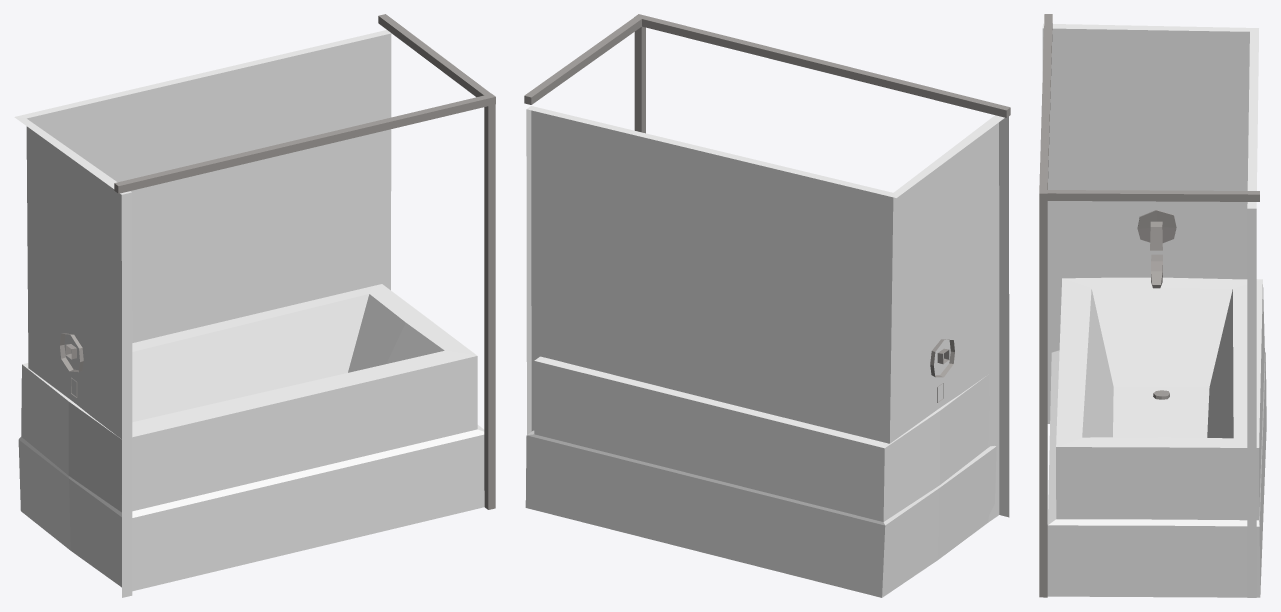
The model's file is Bathroom_Bath.fbx.
The picture shows the model from 3 angles, left to right: view 1: azimuth 30°, elevation 25°; view 2: azimuth 150°, elevation 25°; view 3: azimuth 270°, elevation 25°; orthographic projection.
Visible parts, largest first — view 1: Bathroom_Bath; view 2: Bathroom_Bath; view 3: Bathroom_Bath.
Part boxes in pixels (x1=…): Bathroom_Bath: x1=14, y1=14, x2=495, y2=597; Bathroom_Bath: x1=524, y1=14, x2=1010, y2=597; Bathroom_Bath: x1=1039, y1=14, x2=1266, y2=597.
Bounding box in the file's own units: 339 × 180 × 353.
